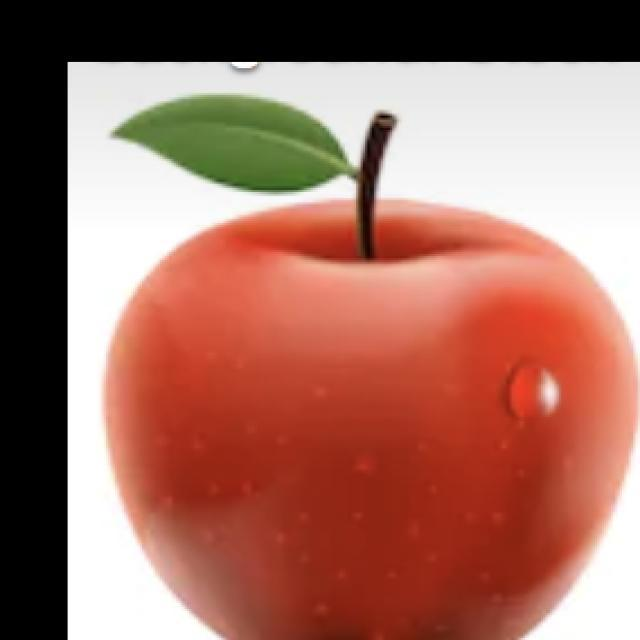Apple: (102, 95, 639, 639)
